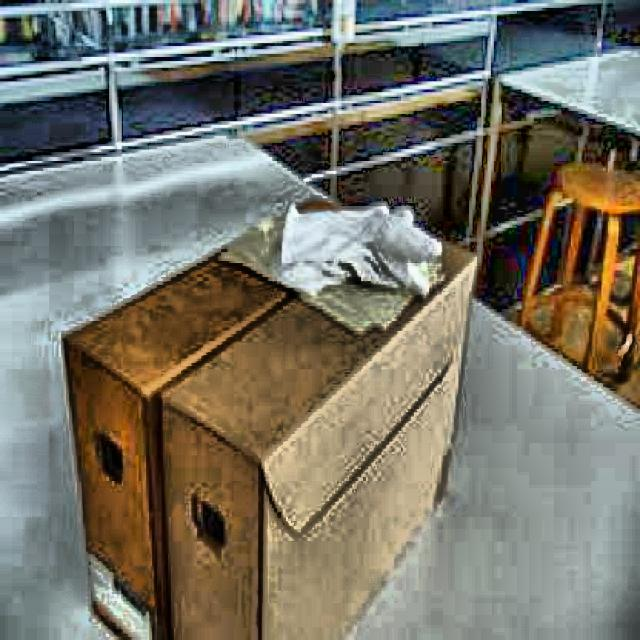Cardbox: (43, 178, 469, 640)
